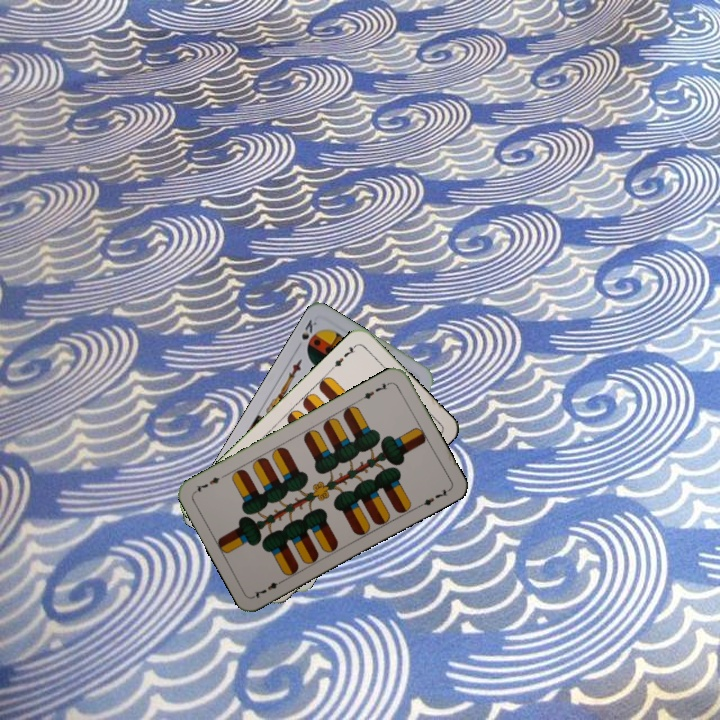E7: (327, 340, 359, 372), (250, 575, 287, 601), (356, 378, 394, 402)
SK: (297, 315, 320, 342)
